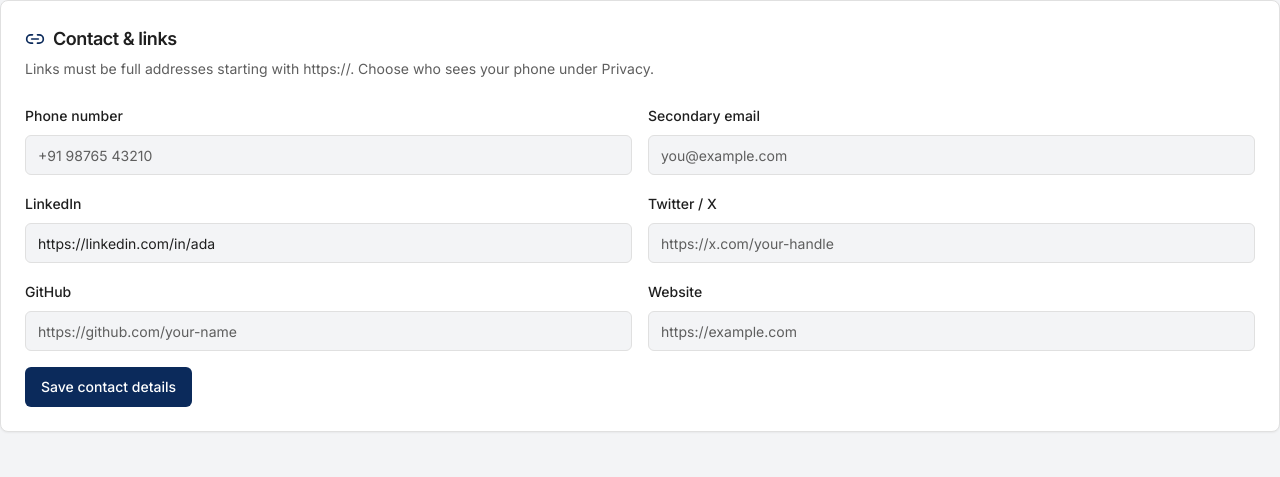
Test: <ContactLinksSection> › validates phone and secondary email
The width and height of the screenshot is (1280, 477).
Type "call me" into the field labelled "Phone number".
click(328, 155); type("call me")  # box [25,135,632,175]
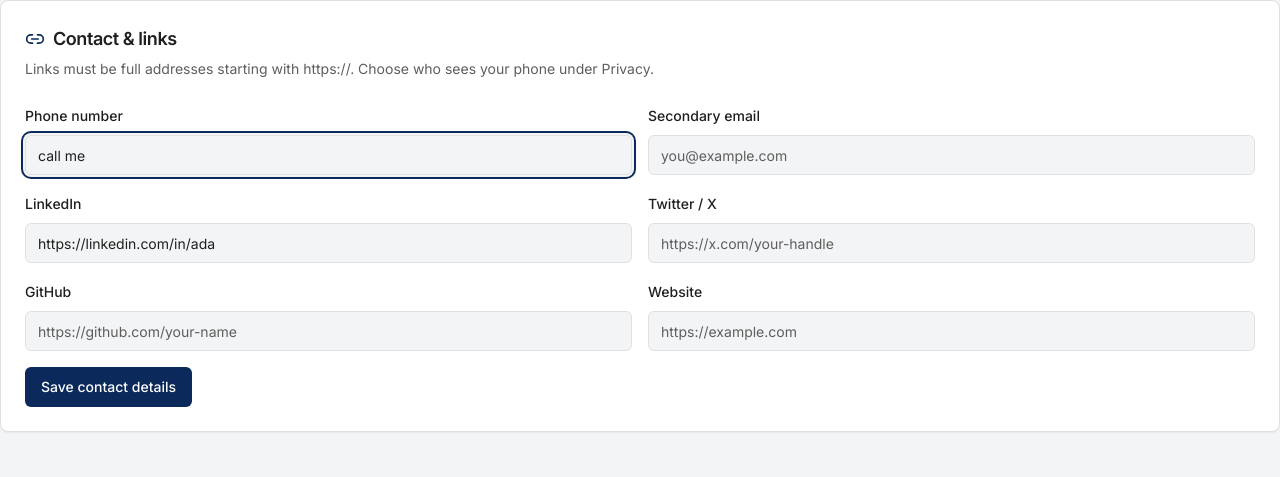
Type "nope" into the field labelled "Secondary email".
click(952, 155); type("nope")  # box [648,135,1255,175]
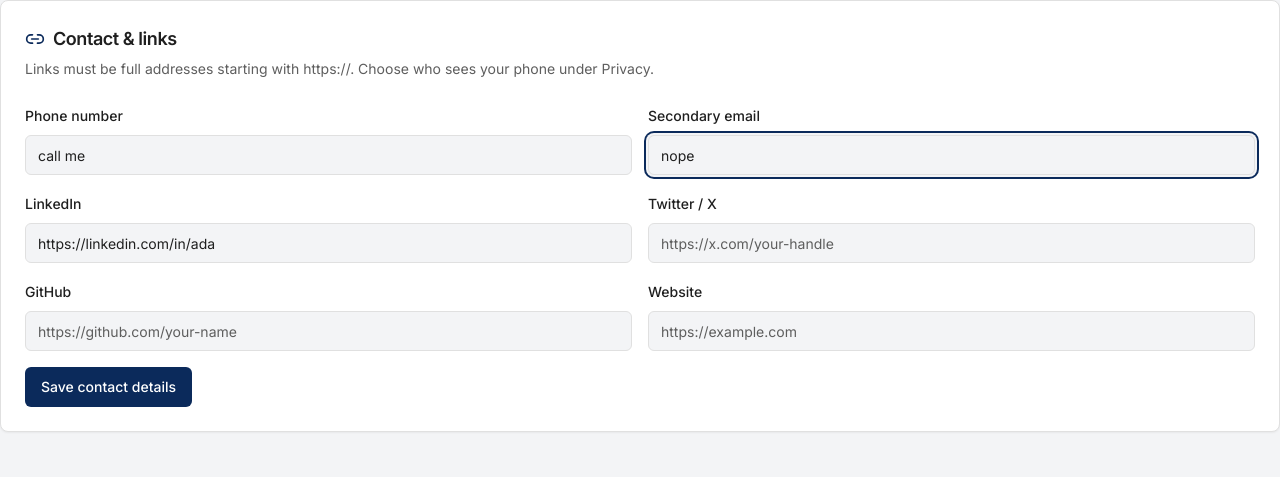
Click the button "Save contact details".
click(109, 387)  # box [25,367,192,407]
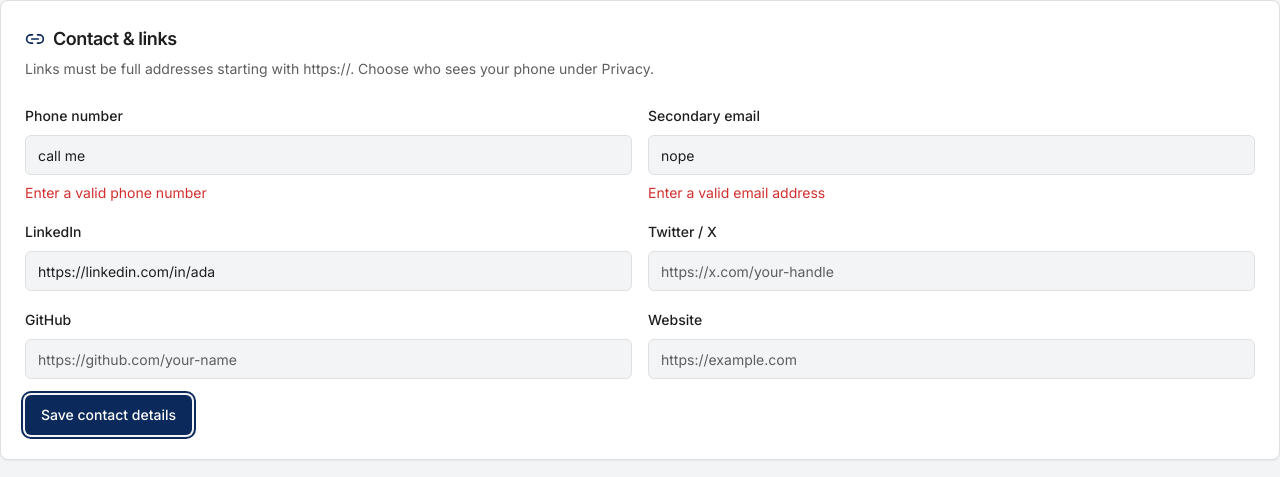
expect the text "Enter a valid phone number" is shown: met, box [25,184,207,201]
expect the text "Enter a valid email address" is shown: met, box [648,184,825,201]
